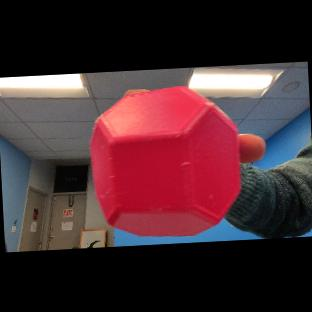V5_RED: (87, 79, 243, 241)
